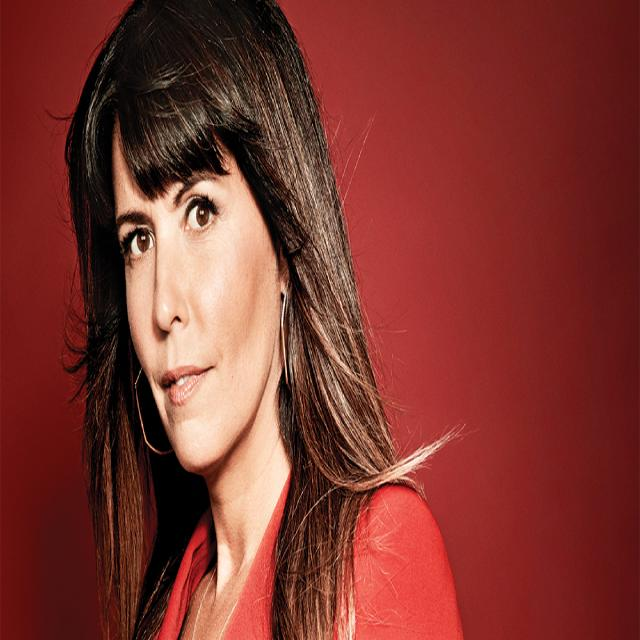human: (54, 4, 470, 640)
